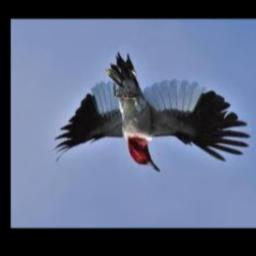Woodpecker: (54, 53, 250, 172)
